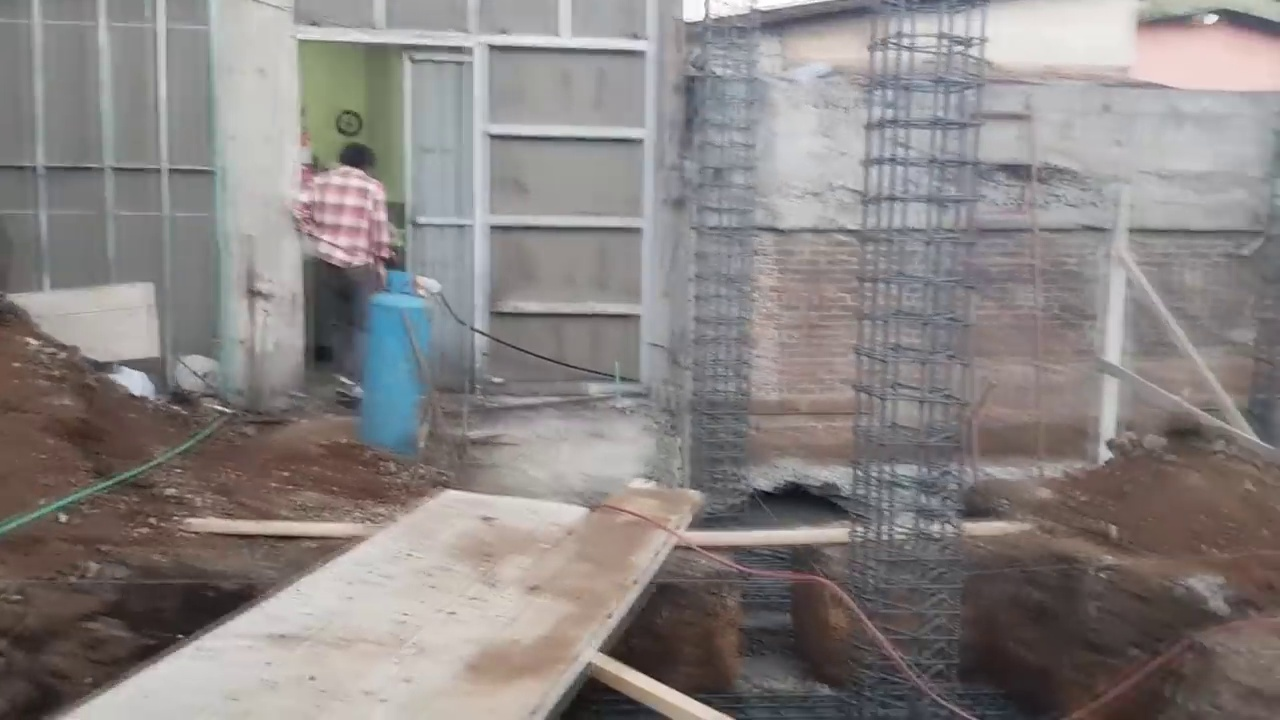helmet-off: (334, 140, 381, 184)
person: (294, 138, 388, 376)
